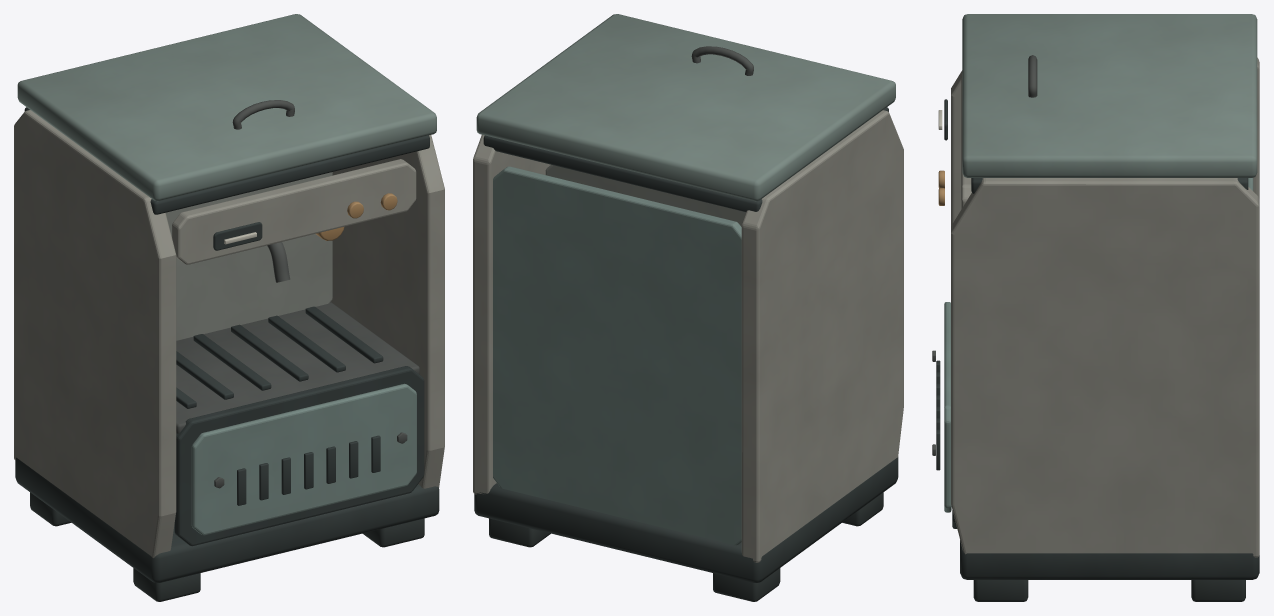
The model's file is NW8_Dispenser.fbx.
3 renders of one model, left to right at view 1: azimuth 30°, elevation 25°; view 2: azimuth 150°, elevation 25°; view 3: azimuth 270°, elevation 25°, orthographic. The views are drawn at different scales.
Parts seen in each view (by area): view 1: NW8_Dispenser_Mesh, NW8_Dispenser_Work_FillLid_Mesh; view 2: NW8_Dispenser_Mesh, NW8_Dispenser_Work_FillLid_Mesh; view 3: NW8_Dispenser_Mesh, NW8_Dispenser_Work_FillLid_Mesh.
Part boxes in pixels (x1,y1,x2,y2): NW8_Dispenser_Mesh: (14, 107, 444, 601); NW8_Dispenser_Work_FillLid_Mesh: (17, 14, 436, 201); NW8_Dispenser_Mesh: (473, 107, 903, 601); NW8_Dispenser_Work_FillLid_Mesh: (476, 14, 895, 201); NW8_Dispenser_Mesh: (932, 57, 1259, 601); NW8_Dispenser_Work_FillLid_Mesh: (962, 14, 1257, 177).
Size of the model in its own units: 0.77 by 1.15 by 0.721.
